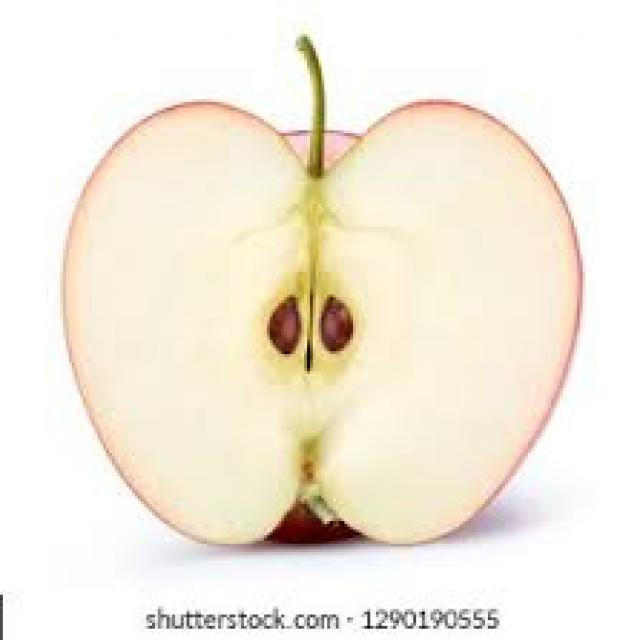Apple: (66, 98, 578, 542)
